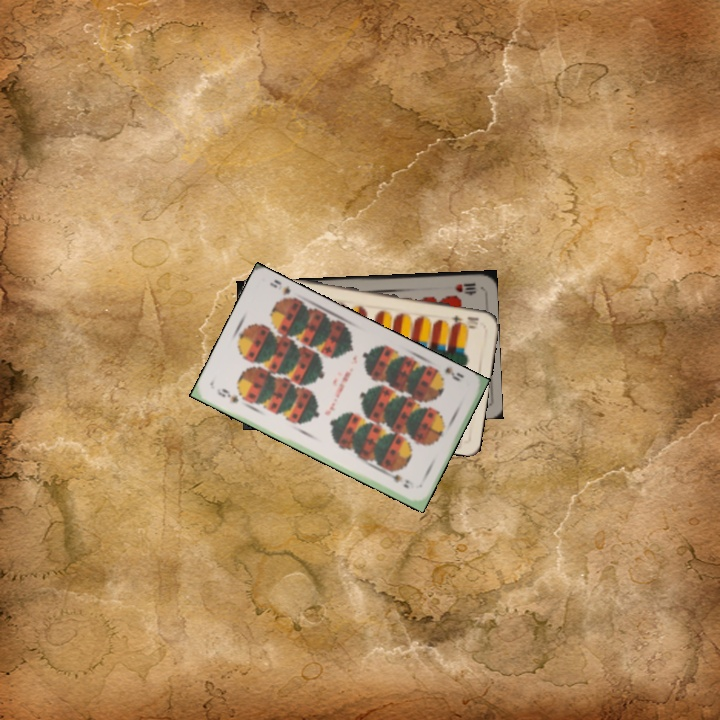E10: (448, 311, 481, 328)
H10: (451, 279, 478, 295)
S9: (431, 363, 466, 384), (213, 384, 241, 406)
